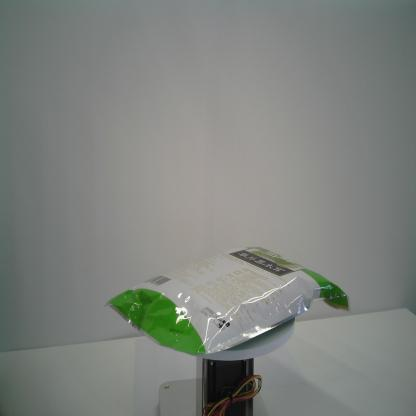Dried Food: (102, 242, 352, 359)
